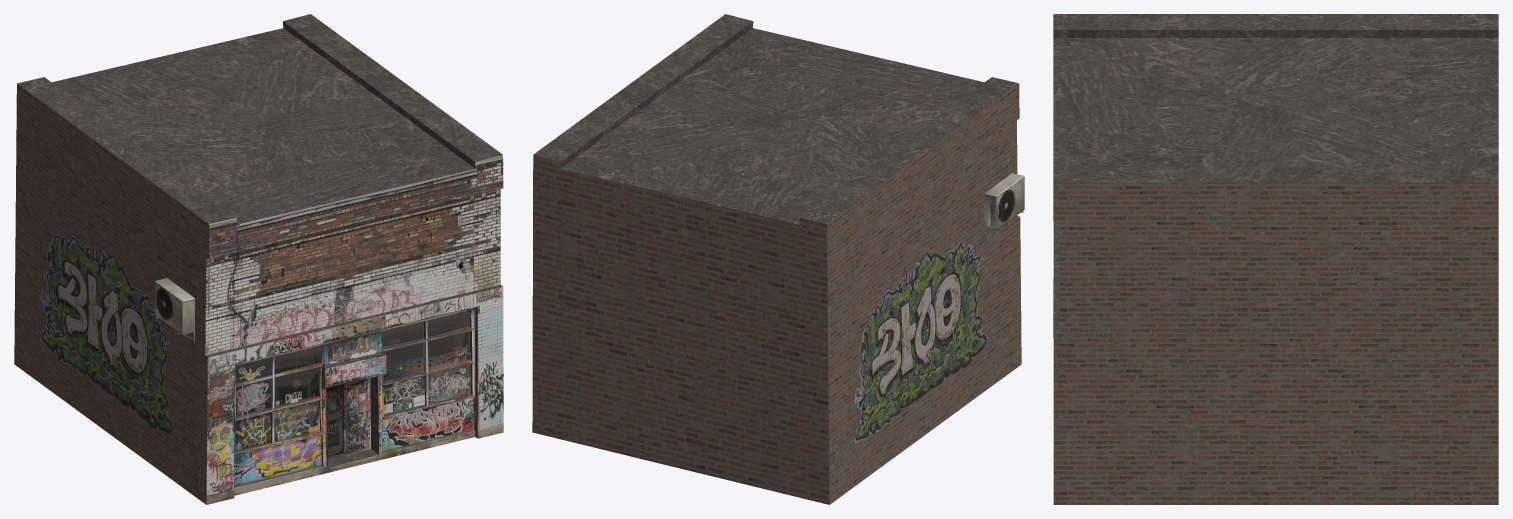
File: ghetto_hood_graffiti_detroit_building_1.glb
3 renders of one model, left to right at view 1: azimuth 30°, elevation 25°; view 2: azimuth 150°, elevation 25°; view 3: azimuth 270°, elevation 25°, orthographic. The views are drawn at different scales.
Visible parts, largest first — view 1: Building4_Building1_0, Building4_Concrete_0, Building4_Brick_0, Building4_Graffiti_0, Building4_ACUnit_0; view 2: Building4_Brick_0, Building4_Concrete_0, Building4_Graffiti_0, Building4_ACUnit_0; view 3: Building4_Brick_0, Building4_Concrete_0.
Boxes of the visible parts, x1,y1,x2,y2 form: Building4_Building1_0: (205,155,503,504); Building4_Concrete_0: (17,14,502,502); Building4_Brick_0: (14,83,503,504); Building4_Graffiti_0: (40,234,171,432); Building4_ACUnit_0: (155,278,194,334); Building4_Brick_0: (532,83,1021,504); Building4_Concrete_0: (533,14,1019,224); Building4_Graffiti_0: (854,243,986,442); Building4_ACUnit_0: (984,173,1024,229); Building4_Brick_0: (1053,182,1498,504); Building4_Concrete_0: (1053,14,1498,337).
Bounding box in the file's own units: 8.59 × 7.37 × 9.16.
Materials: 6 (6 with a texture image).
